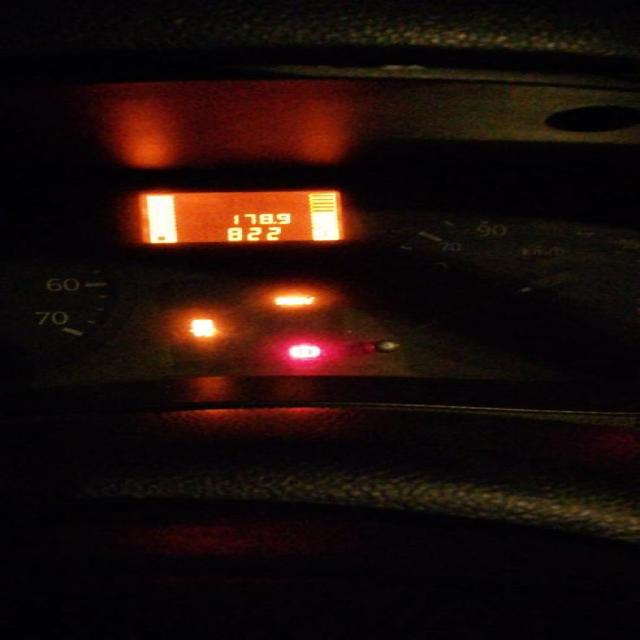odometer: (129, 185, 355, 247)
